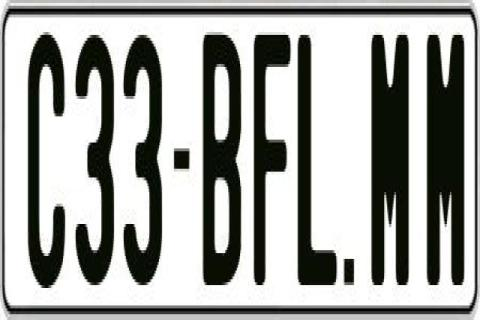0: (73, 35, 114, 294), (121, 35, 161, 299)
B: (200, 35, 244, 297)
C: (26, 32, 68, 300)
F: (252, 35, 290, 291)
L: (294, 26, 341, 288)
M: (368, 35, 412, 303), (425, 29, 459, 282)
